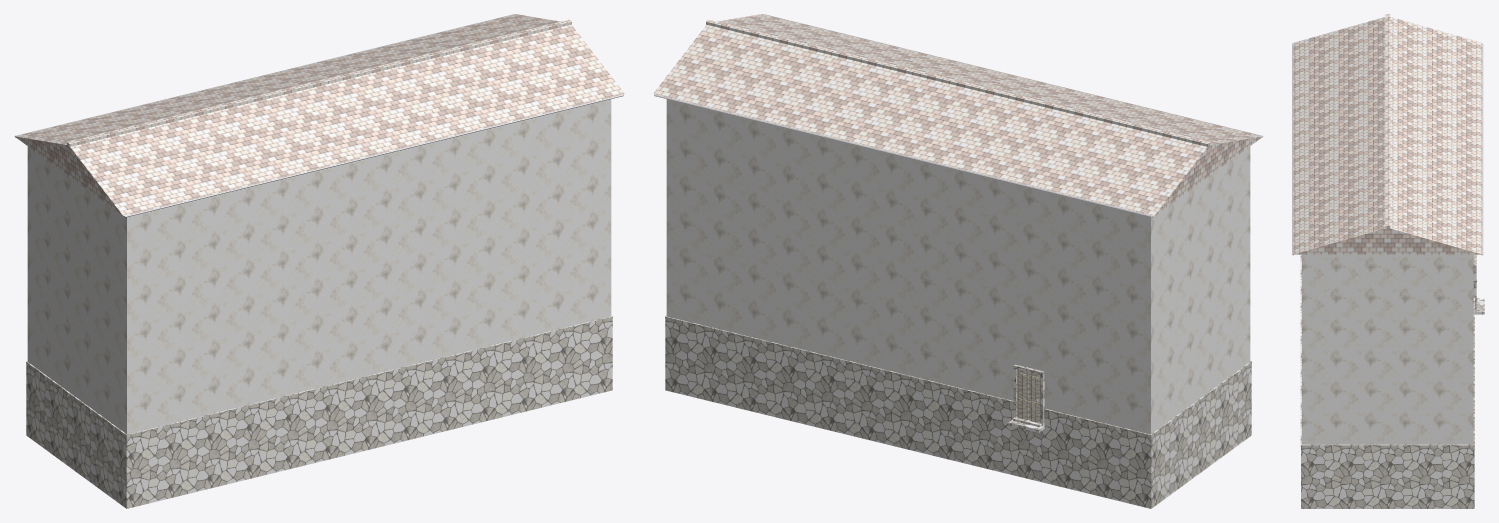
3 views of the same model, side by side, from view 1: azimuth 30°, elevation 25°; view 2: azimuth 150°, elevation 25°; view 3: azimuth 270°, elevation 25° (orthographic). The views are drawn at different scales.
Parts seen in each view (by area): view 1: b1096729691; view 2: b1096729691; view 3: b1096729691.
Part boxes in pixels (box(x1,y1,x2,y2)): b1096729691: box(14, 14, 624, 508); b1096729691: box(653, 14, 1263, 508); b1096729691: box(1292, 14, 1484, 508).
Bounding box in the file's own units: 20.44 × 12.87 × 7.84.
11 materials, 11 textured.
